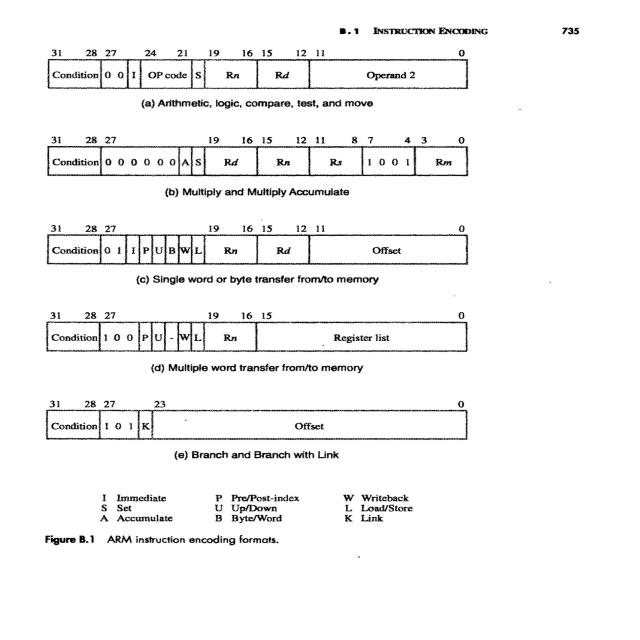diagram: (28, 39, 638, 570)
